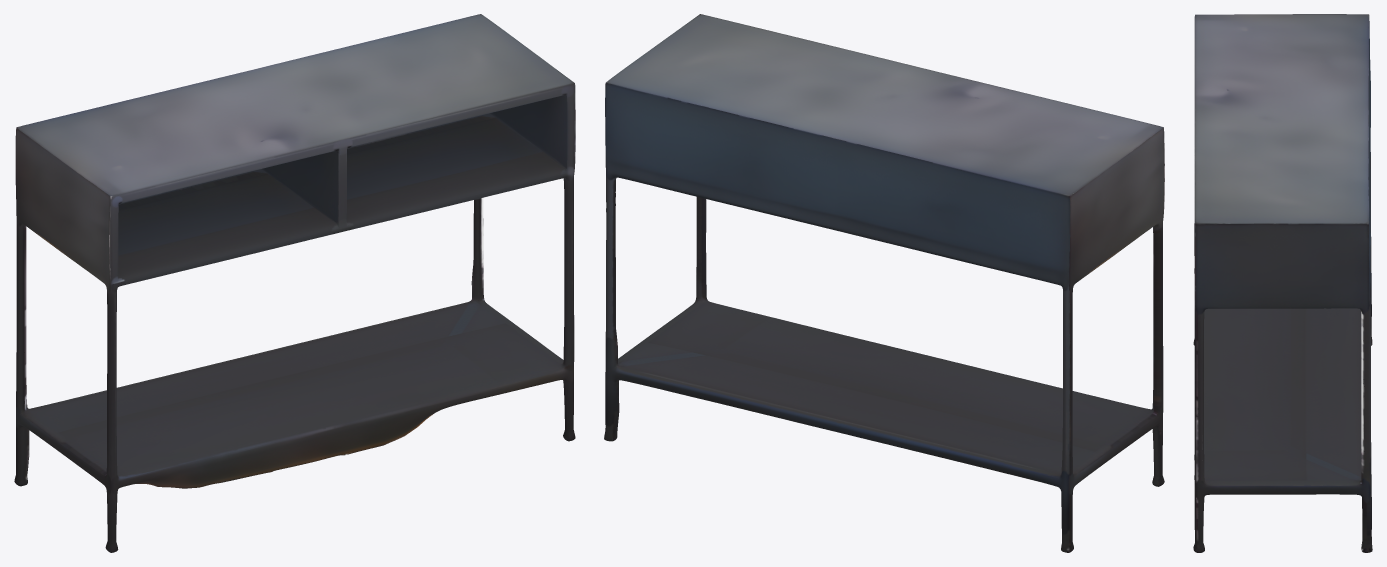
File: dresuar-filadelfia.glb
The picture shows the model from 3 angles, left to right: view 1: azimuth 30°, elevation 25°; view 2: azimuth 150°, elevation 25°; view 3: azimuth 270°, elevation 25°; orthographic projection. The views are drawn at different scales.
Visible parts, largest first — view 1: model; view 2: model; view 3: model.
Boxes of the visible parts, left/top/right/bottom form: model: left=14, top=14, right=575, bottom=552; model: left=604, top=14, right=1164, bottom=552; model: left=1193, top=14, right=1372, bottom=552.
Size of the model in its own units: 1.9 by 1.4 by 0.6824.
Materials: 1 (1 with a texture image).
